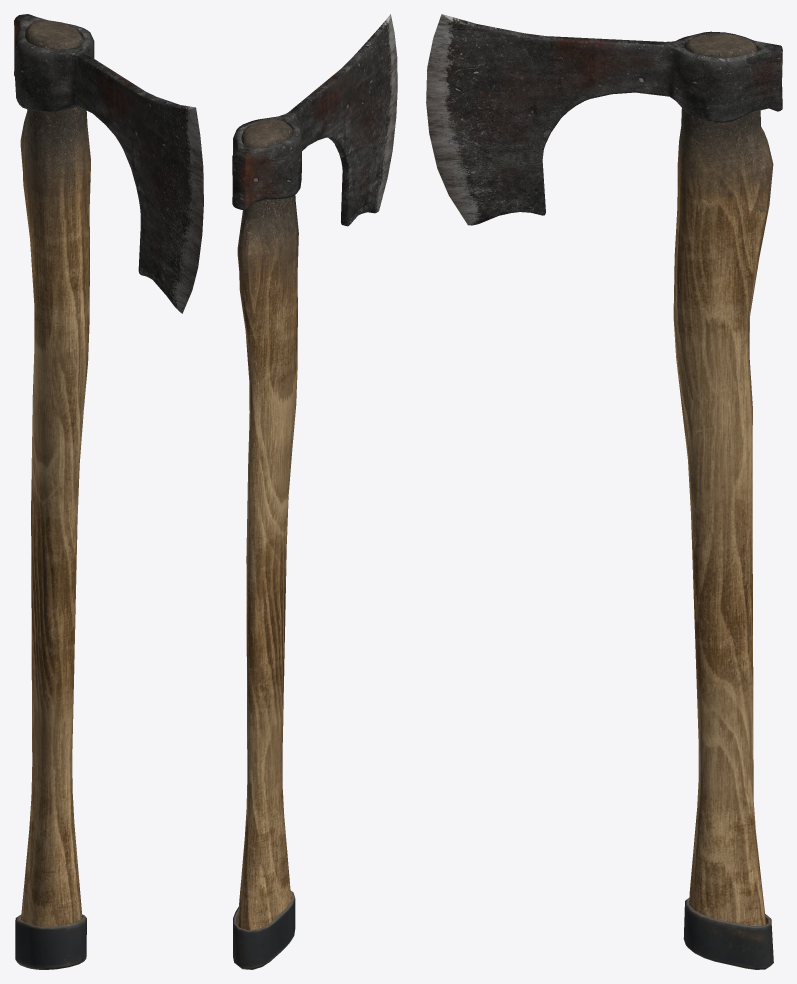
File: wooden_axe.glb
The picture shows the model from 3 angles, left to right: view 1: azimuth 30°, elevation 25°; view 2: azimuth 150°, elevation 25°; view 3: azimuth 270°, elevation 25°; orthographic projection. The views are drawn at different scales.
Visible parts, largest first — view 1: wooden_axe; view 2: wooden_axe; view 3: wooden_axe.
Boxes of the visible parts, x1,y1,x2,y2 form: wooden_axe: (14,14,203,969); wooden_axe: (232,14,397,969); wooden_axe: (426,14,782,969).
Size of the model in its own units: 0.0472 by 0.6303 by 0.2142.
Materials: 1 (1 with a texture image).
